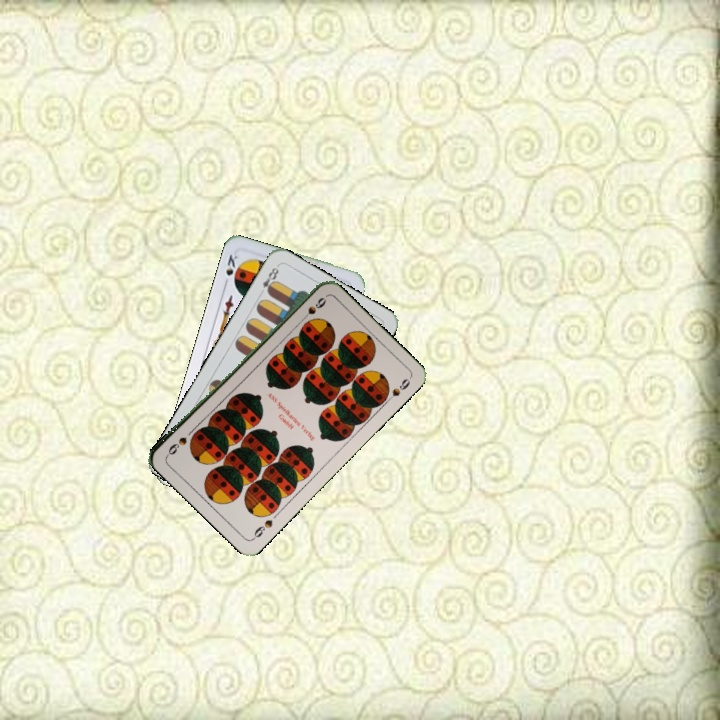E8: (255, 262, 282, 298)
S9: (296, 293, 329, 325), (248, 516, 275, 542)
SK: (220, 249, 240, 289)
